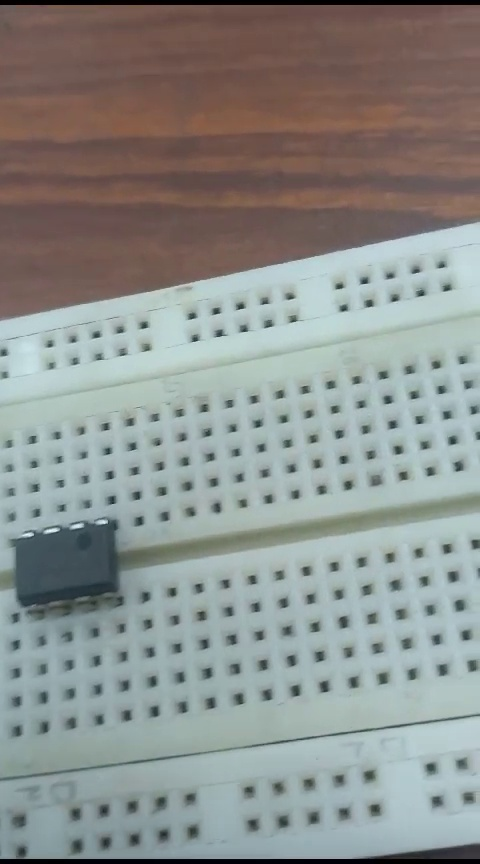IC: (11, 517, 127, 615)
